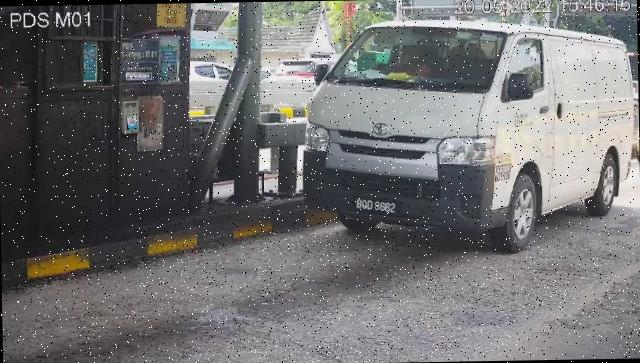License_Plate: (354, 193, 403, 220)
van: (302, 17, 637, 259)
